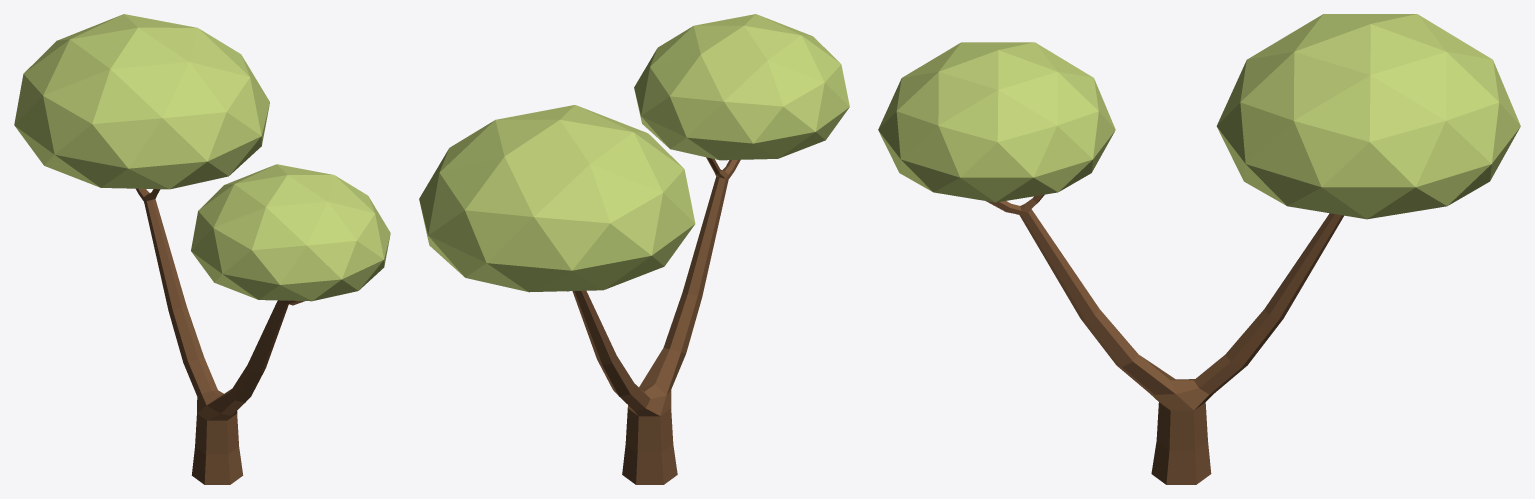
File: quaternius-nature-lite-tree2.glb
3 renders of one model, left to right at view 1: azimuth 30°, elevation 25°; view 2: azimuth 150°, elevation 25°; view 3: azimuth 270°, elevation 25°, orthographic. The views are drawn at different scales.
Visible parts, largest first — view 1: Tree2; view 2: Tree2; view 3: Tree2.
Part boxes in pixels (bbox=[...]): Tree2: bbox=[14, 14, 390, 484]; Tree2: bbox=[419, 14, 849, 484]; Tree2: bbox=[878, 14, 1520, 484].
Size of the model in its own units: 2.89 by 4.98 by 6.43.
